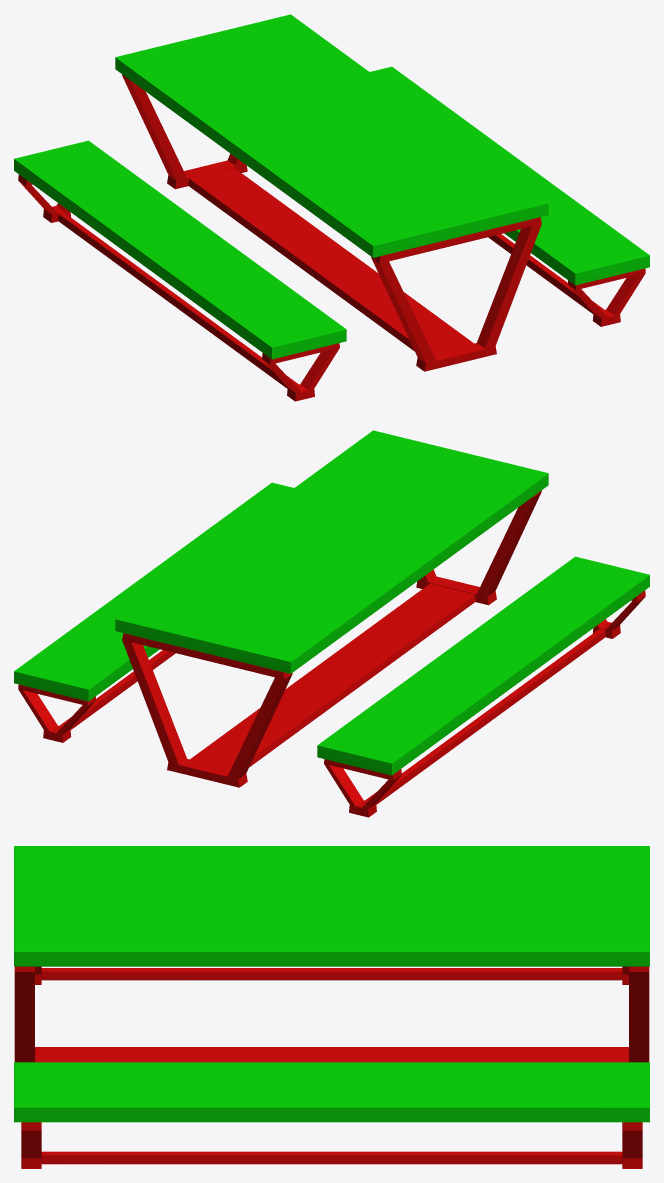
The model's file is SM_FoodEatingTable.fbx.
3 renders of one model, top to bottom at view 1: azimuth 30°, elevation 25°; view 2: azimuth 150°, elevation 25°; view 3: azimuth 270°, elevation 25°, orthographic. The views are drawn at different scales.
Parts seen in each view (by area): view 1: FoodEatingTable; view 2: FoodEatingTable; view 3: FoodEatingTable.
Boxes of the visible parts, x1,y1,x2,y2 form: FoodEatingTable: [14, 14, 649, 401]; FoodEatingTable: [14, 430, 649, 817]; FoodEatingTable: [14, 846, 649, 1168].
Size of the model in its own units: 170 by 201 by 60.02.
